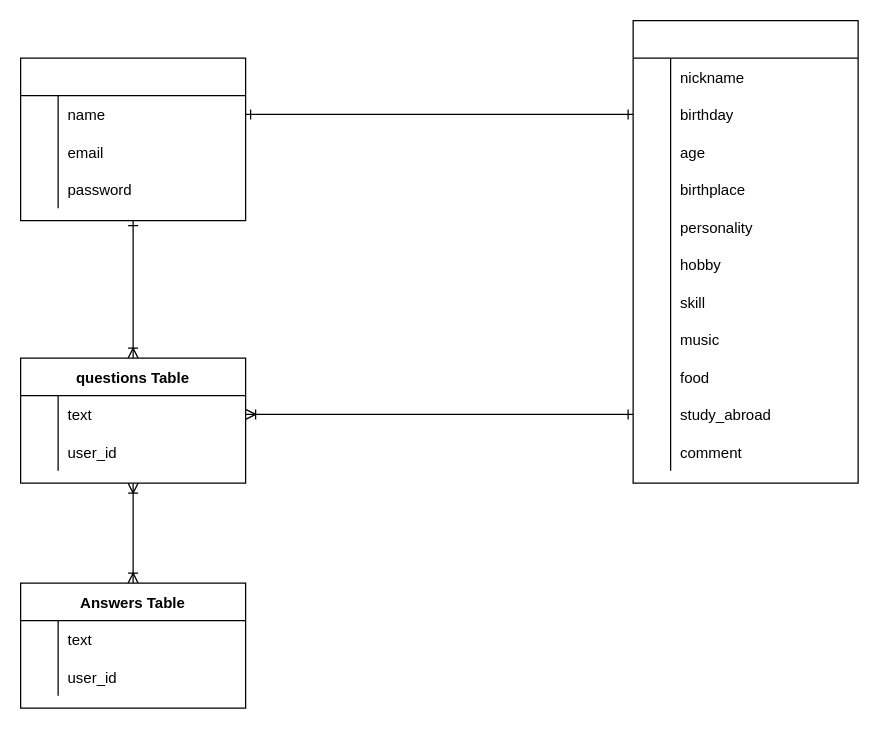
Image size: 879x729. Some labels were removed from this diagram. Here are the shapes that lost their labels. From the top down, the box of each, then its label:
(19, 57, 246, 221): users Table
(632, 19, 858, 483): introductions Table
